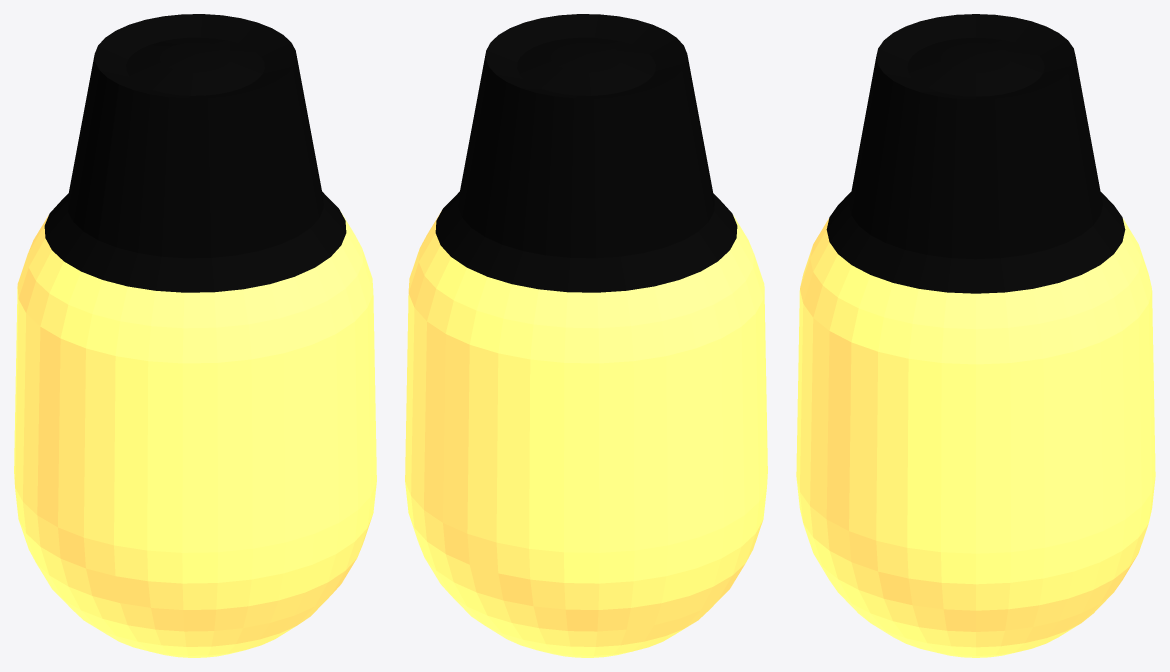
The model's file is lamp.fbx.
3 views of the same model, side by side, from view 1: azimuth 30°, elevation 25°; view 2: azimuth 150°, elevation 25°; view 3: azimuth 270°, elevation 25° (orthographic).
Visible parts, largest first — view 1: Сфера; view 2: Сфера; view 3: Сфера.
Boxes of the visible parts, x1,y1,x2,y2 form: Сфера: [14, 14, 376, 657]; Сфера: [405, 14, 767, 657]; Сфера: [796, 14, 1155, 657].
Size of the model in its own units: 165 by 292 by 162.
